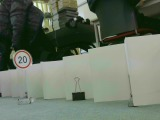speed_20: (12, 48, 33, 70)
